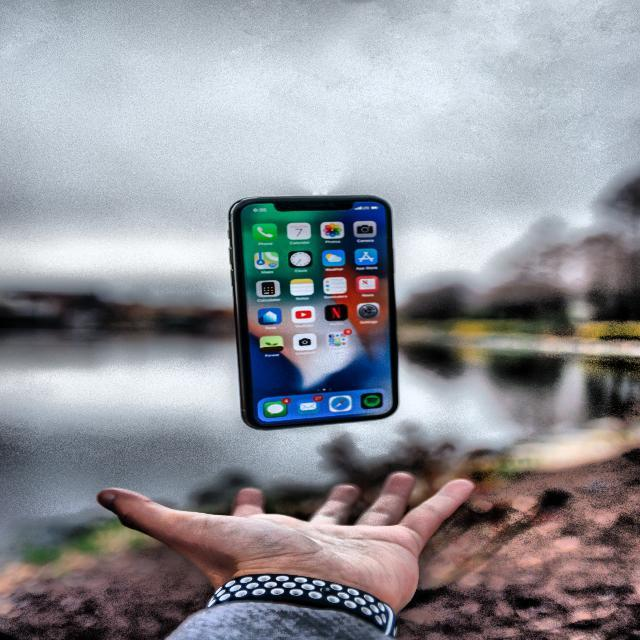Phone: (228, 193, 400, 430)
